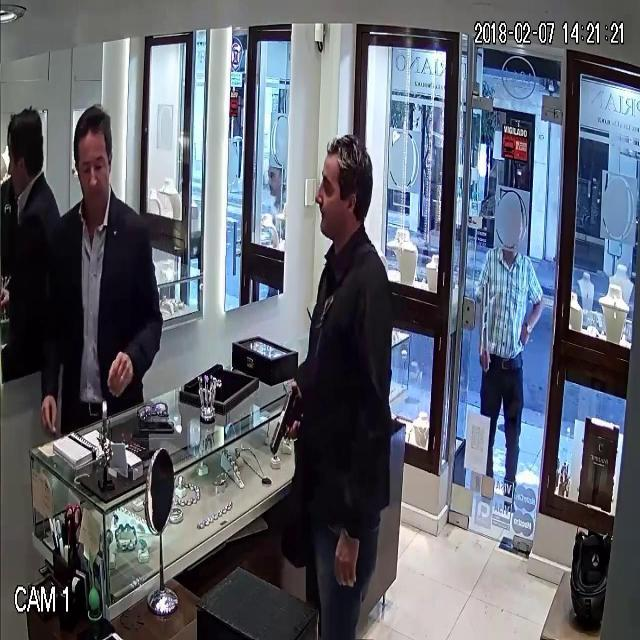pistol: (262, 361, 310, 479)
